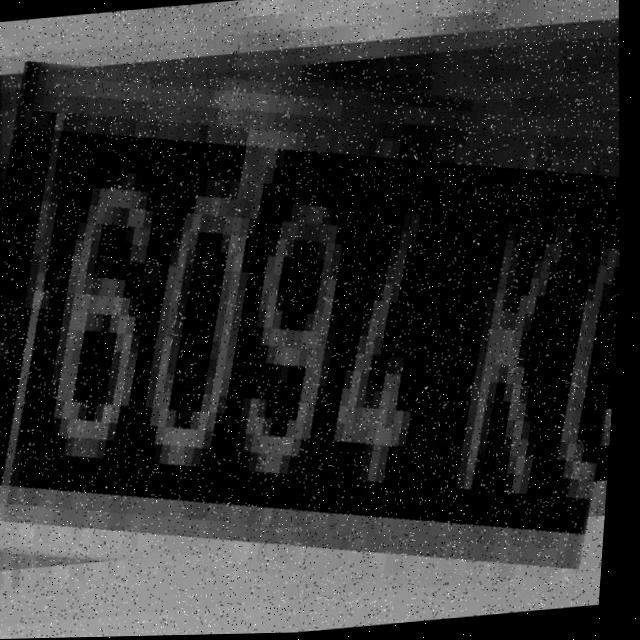LicensePlate: (0, 35, 638, 628)
